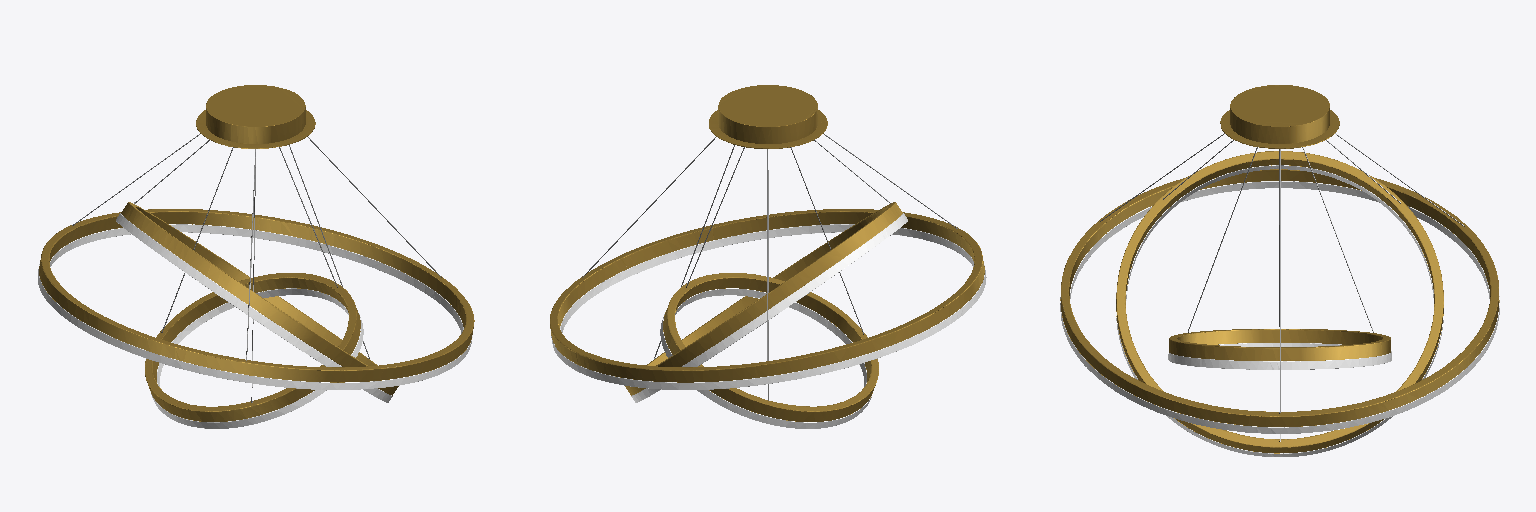
The picture shows the model from 3 angles: view 1: azimuth 30°, elevation 25°; view 2: azimuth 150°, elevation 25°; view 3: azimuth 270°, elevation 25°; orthographic projection.
Parts seen in each view (by area): view 1: solid_001, lightmesh_301377, solid_002; view 2: solid_001, lightmesh_301377, solid_002; view 3: solid_001, lightmesh_301377, solid_002.
Boxes of the visible parts, box(x1,y1,x2,y2) form: solid_001: box(39, 85, 474, 421); lightmesh_301377: box(38, 213, 472, 428); solid_002: box(72, 134, 440, 401); solid_001: box(550, 85, 984, 421); lightmesh_301377: box(551, 213, 986, 428); solid_002: box(583, 134, 957, 400); solid_001: box(1060, 85, 1499, 453); lightmesh_301377: box(1060, 165, 1499, 456); solid_002: box(1100, 133, 1464, 440).
Size of the model in its own units: 0.7845 by 0.5967 by 0.7912.
Materials: 1 (1 with a texture image).